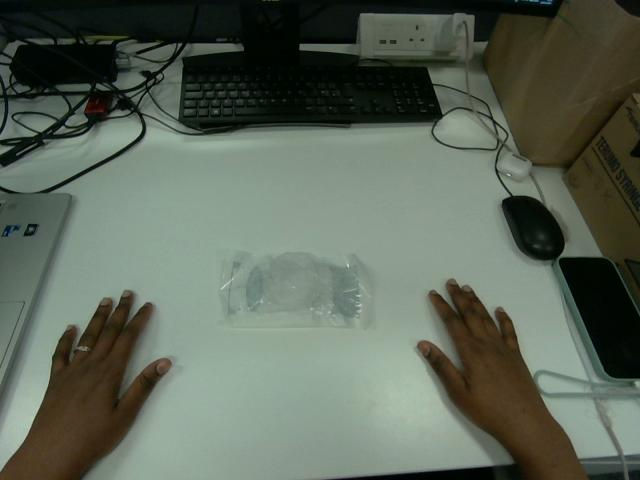gallipot: (221, 252, 371, 327)
